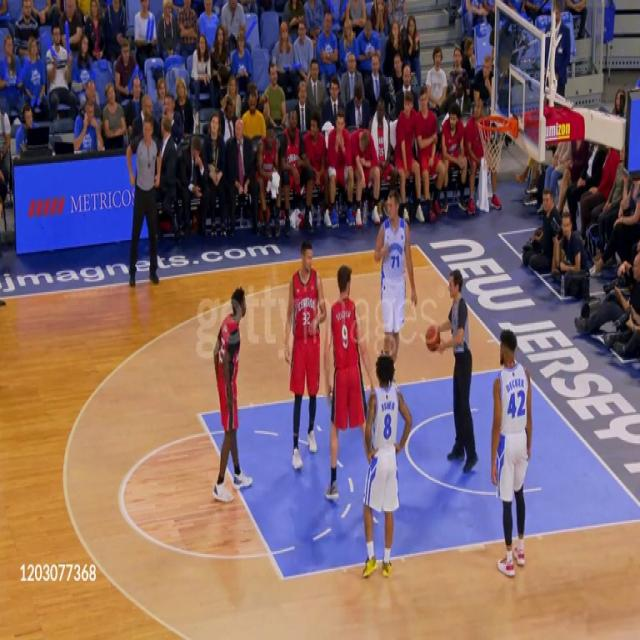ball: (425, 324, 441, 352)
